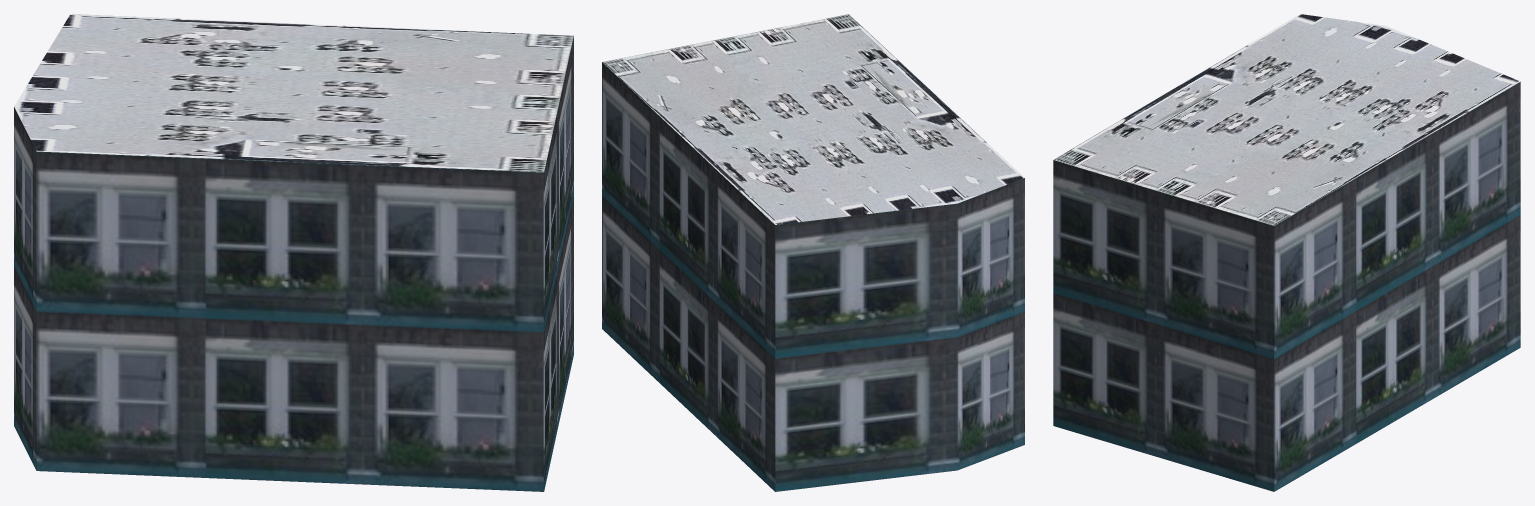
Rendered from ResTex__2443.fbx.
3 renders of one model, left to right at view 1: azimuth 30°, elevation 25°; view 2: azimuth 150°, elevation 25°; view 3: azimuth 270°, elevation 25°, orthographic. The views are drawn at different scales.
Parts seen in each view (by area): view 1: CityEngineMaterial_11_m, CityEngineMaterial_8_m; view 2: CityEngineMaterial_11_m, CityEngineMaterial_8_m; view 3: CityEngineMaterial_11_m, CityEngineMaterial_8_m.
Boxes of the visible parts, x1,y1,x2,y2 form: CityEngineMaterial_11_m: (14, 36, 573, 491); CityEngineMaterial_8_m: (14, 14, 573, 172); CityEngineMaterial_11_m: (602, 62, 1024, 491); CityEngineMaterial_8_m: (602, 14, 1024, 224); CityEngineMaterial_11_m: (1053, 82, 1520, 491); CityEngineMaterial_8_m: (1053, 14, 1520, 225).
Bounding box in the file's own units: 10.25 × 6 × 9.56.
2 materials, 2 textured.
